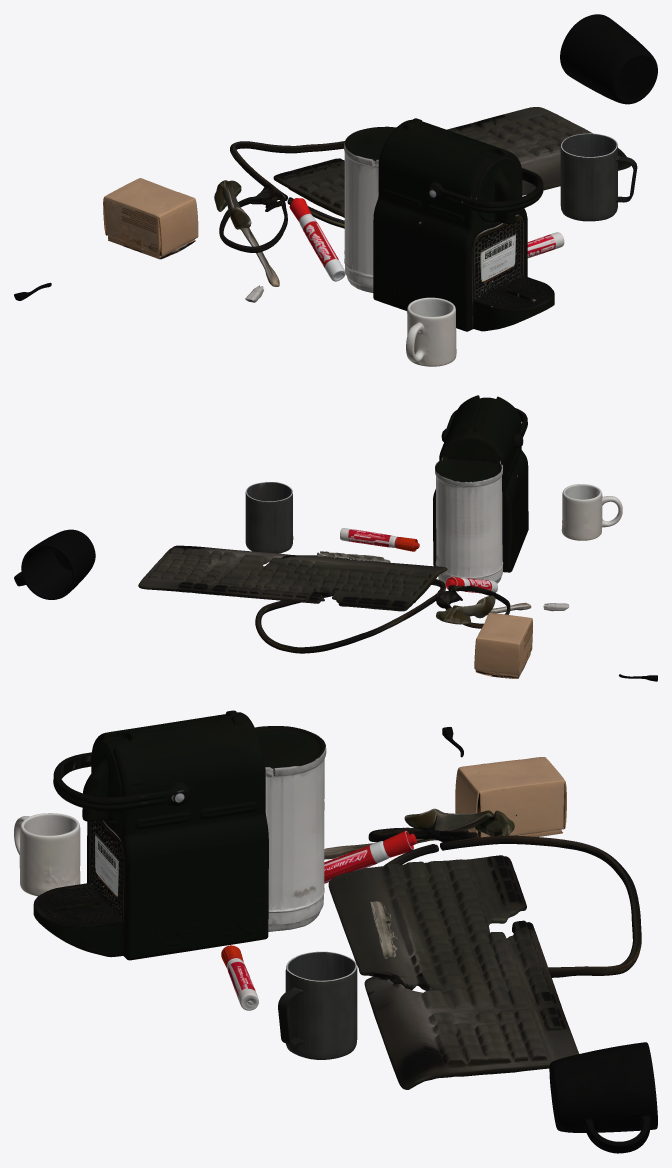
The model's file is simfoundry.glb.
The picture shows the model from 3 angles, top to bottom: view 1: azimuth 30°, elevation 25°; view 2: azimuth 150°, elevation 25°; view 3: azimuth 270°, elevation 25°; orthographic projection. The views are drawn at different scales.
Parts seen in each view (by area): view 1: black_coffee_machine_okjvci_link_iter_1_canonical_mesh_obj, black_keyboard_lgenqg_link_iter_7_canonical_mesh_obj, black_mug_koplxo_link_iter_12_canonical_mesh_obj, brown_cardboard_box_garzxg_link_iter_9_canonical_mesh_obj, black_mug_ofhuuw_link_iter_4_canonical_mesh_obj, white_mug_with_handle_kicigt_link_iter_0_canonical_mesh_obj, black_braided_cable_ondbzk_link_iter_8_canonical_mesh_obj, red_marker_vxctzt_link_iter_3_canonical_mesh_obj, black_cable_fphmns_link_iter_10_canonical_mesh_obj, red_marker_uishjj_link_iter_2_canonical_mesh_obj; view 2: black_coffee_machine_okjvci_link_iter_1_canonical_mesh_obj, black_keyboard_lgenqg_link_iter_7_canonical_mesh_obj, black_mug_koplxo_link_iter_12_canonical_mesh_obj, brown_cardboard_box_garzxg_link_iter_9_canonical_mesh_obj, black_mug_ofhuuw_link_iter_4_canonical_mesh_obj, black_braided_cable_ondbzk_link_iter_8_canonical_mesh_obj, white_mug_with_handle_kicigt_link_iter_0_canonical_mesh_obj, black_cable_fphmns_link_iter_10_canonical_mesh_obj, red_marker_uishjj_link_iter_2_canonical_mesh_obj, red_marker_vxctzt_link_iter_3_canonical_mesh_obj, black_cable_fzeldu_link_iter_5_canonical_mesh_obj; view 3: black_coffee_machine_okjvci_link_iter_1_canonical_mesh_obj, black_keyboard_lgenqg_link_iter_7_canonical_mesh_obj, black_mug_koplxo_link_iter_12_canonical_mesh_obj, black_mug_ofhuuw_link_iter_4_canonical_mesh_obj, brown_cardboard_box_garzxg_link_iter_9_canonical_mesh_obj, black_braided_cable_ondbzk_link_iter_8_canonical_mesh_obj, white_mug_with_handle_kicigt_link_iter_0_canonical_mesh_obj, black_cable_fphmns_link_iter_10_canonical_mesh_obj, red_marker_vxctzt_link_iter_3_canonical_mesh_obj, red_marker_uishjj_link_iter_2_canonical_mesh_obj, black_cable_fzeldu_link_iter_5_canonical_mesh_obj.
Boxes of the visible parts, left/top/right/bottom form: black_coffee_machine_okjvci_link_iter_1_canonical_mesh_obj: left=344, top=118, right=554, bottom=331; black_keyboard_lgenqg_link_iter_7_canonical_mesh_obj: left=273, top=107, right=630, bottom=217; black_mug_koplxo_link_iter_12_canonical_mesh_obj: left=560, top=14, right=657, bottom=104; brown_cardboard_box_garzxg_link_iter_9_canonical_mesh_obj: left=103, top=178, right=198, bottom=259; black_mug_ofhuuw_link_iter_4_canonical_mesh_obj: left=560, top=133, right=637, bottom=221; white_mug_with_handle_kicigt_link_iter_0_canonical_mesh_obj: left=406, top=297, right=456, bottom=366; black_braided_cable_ondbzk_link_iter_8_canonical_mesh_obj: left=219, top=141, right=344, bottom=252; red_marker_vxctzt_link_iter_3_canonical_mesh_obj: left=289, top=198, right=345, bottom=281; black_cable_fphmns_link_iter_10_canonical_mesh_obj: left=214, top=180, right=279, bottom=286; red_marker_uishjj_link_iter_2_canonical_mesh_obj: left=527, top=232, right=564, bottom=258; black_coffee_machine_okjvci_link_iter_1_canonical_mesh_obj: left=433, top=395, right=528, bottom=583; black_keyboard_lgenqg_link_iter_7_canonical_mesh_obj: left=138, top=545, right=447, bottom=611; black_mug_koplxo_link_iter_12_canonical_mesh_obj: left=14, top=529, right=95, bottom=599; brown_cardboard_box_garzxg_link_iter_9_canonical_mesh_obj: left=474, top=612, right=532, bottom=678; black_mug_ofhuuw_link_iter_4_canonical_mesh_obj: left=245, top=482, right=293, bottom=553; black_braided_cable_ondbzk_link_iter_8_canonical_mesh_obj: left=255, top=579, right=510, bottom=653; white_mug_with_handle_kicigt_link_iter_0_canonical_mesh_obj: left=561, top=484, right=622, bottom=540; black_cable_fphmns_link_iter_10_canonical_mesh_obj: left=436, top=595, right=531, bottom=624; red_marker_uishjj_link_iter_2_canonical_mesh_obj: left=340, top=528, right=419, bottom=551; red_marker_vxctzt_link_iter_3_canonical_mesh_obj: left=445, top=576, right=497, bottom=593; black_cable_fzeldu_link_iter_5_canonical_mesh_obj: left=316, top=551, right=390, bottom=562; black_coffee_machine_okjvci_link_iter_1_canonical_mesh_obj: left=33, top=710, right=326, bottom=960; black_keyboard_lgenqg_link_iter_7_canonical_mesh_obj: left=328, top=855, right=578, bottom=1089; black_mug_koplxo_link_iter_12_canonical_mesh_obj: left=549, top=1042, right=657, bottom=1153; black_mug_ofhuuw_link_iter_4_canonical_mesh_obj: left=278, top=951, right=357, bottom=1059; brown_cardboard_box_garzxg_link_iter_9_canonical_mesh_obj: left=455, top=757, right=566, bottom=837; black_braided_cable_ondbzk_link_iter_8_canonical_mesh_obj: left=368, top=827, right=641, bottom=977; white_mug_with_handle_kicigt_link_iter_0_canonical_mesh_obj: left=14, top=813, right=80, bottom=896; black_cable_fphmns_link_iter_10_canonical_mesh_obj: left=324, top=808, right=514, bottom=859; red_marker_vxctzt_link_iter_3_canonical_mesh_obj: left=324, top=830, right=416, bottom=883; red_marker_uishjj_link_iter_2_canonical_mesh_obj: left=221, top=945, right=258, bottom=1010; black_cable_fzeldu_link_iter_5_canonical_mesh_obj: left=370, top=901, right=397, bottom=958.
Size of what is drawn, in the model's own units: 1.27 by 0.2892 by 0.8175.
Materials: 13 (13 with a texture image).
